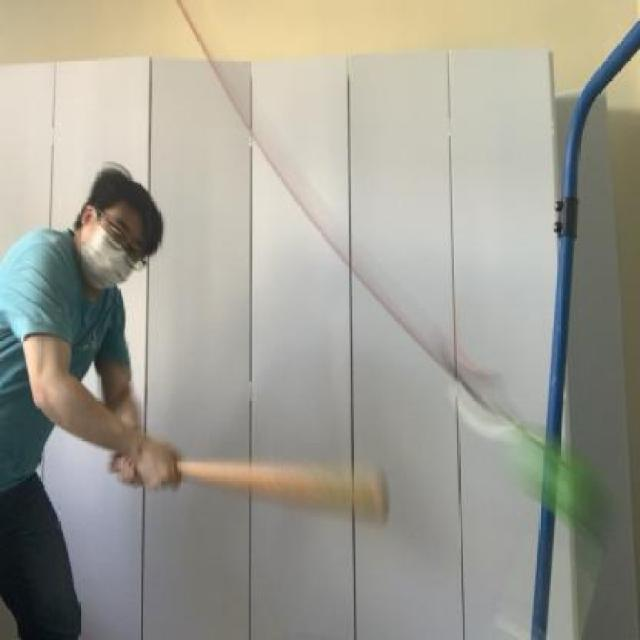baseball: (489, 414, 609, 541)
